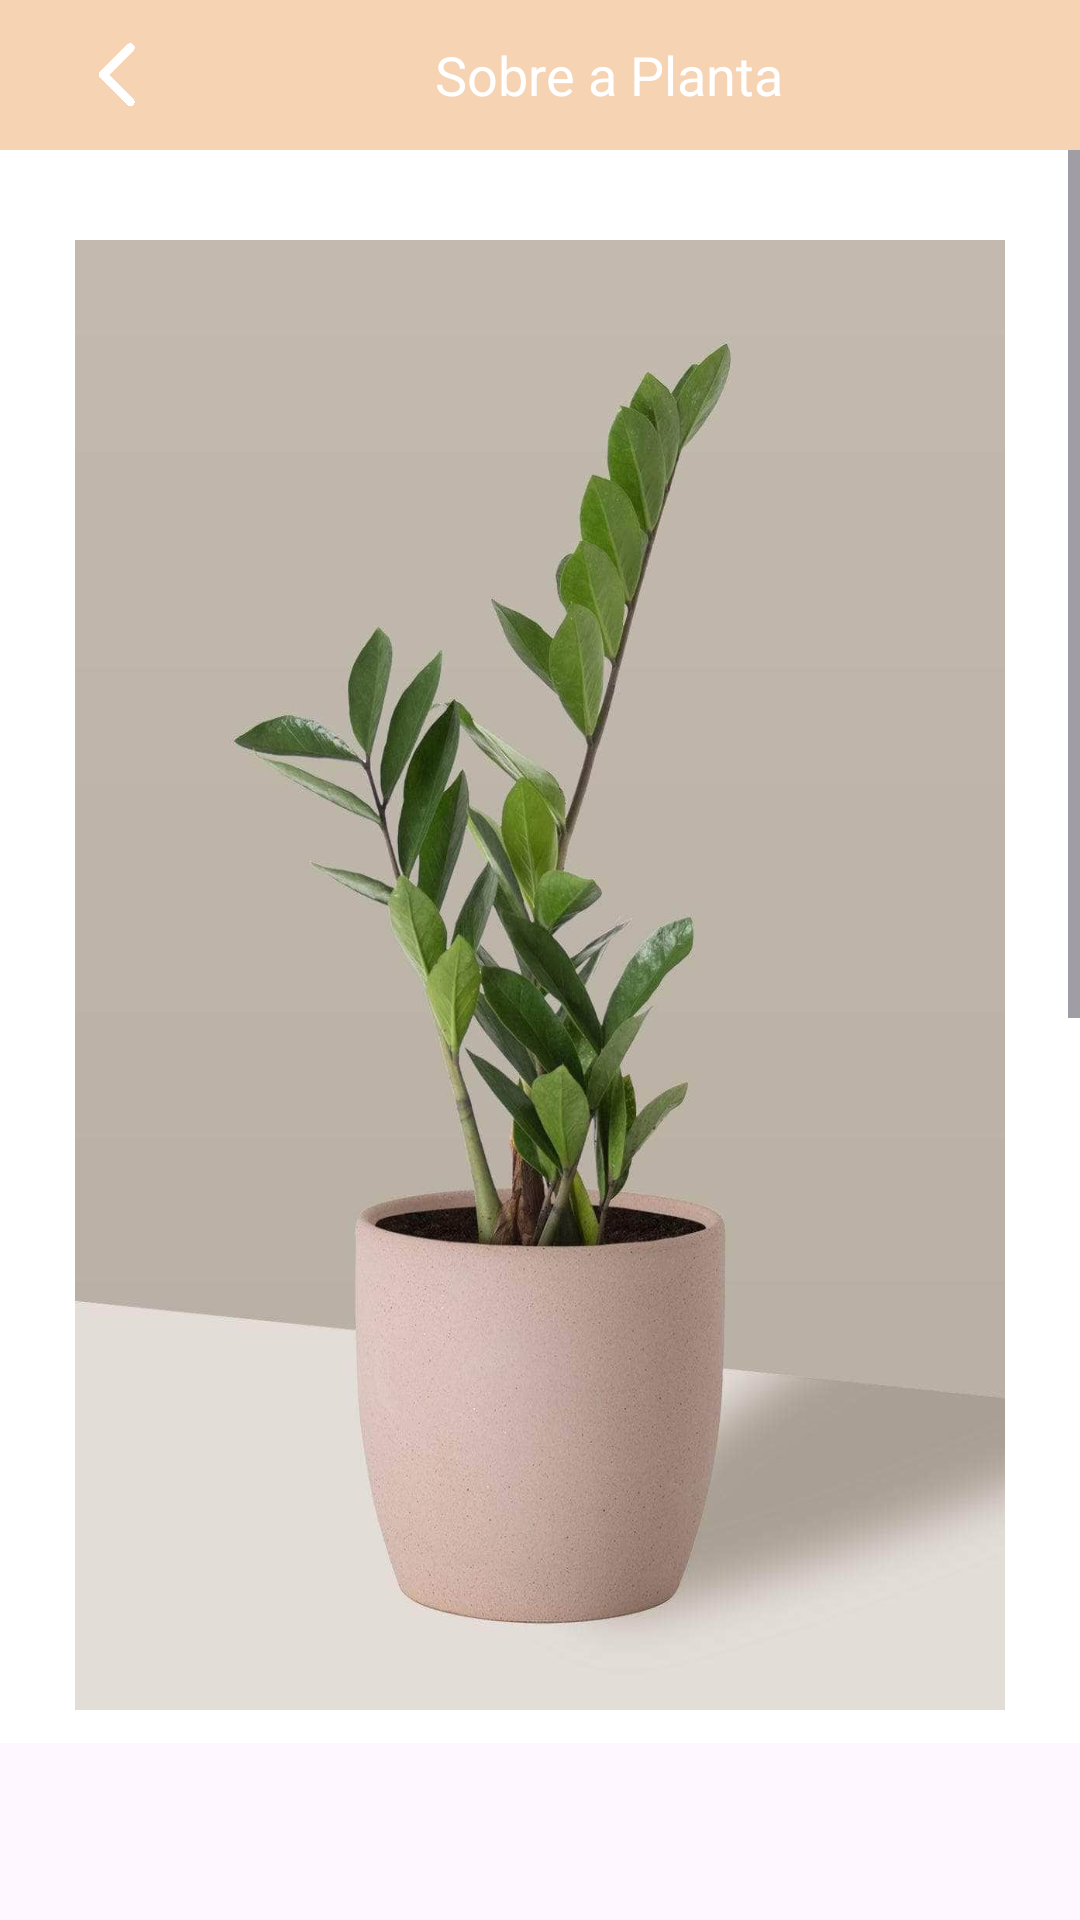

Icon bounding boxes for this 1080x1920 phone screenshot, format bbox(x1, y1, x2, y2):
seta voltar: bbox(99, 43, 135, 106)
